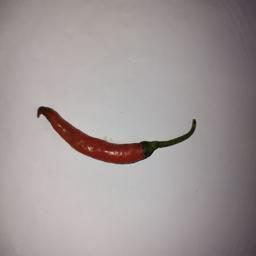Buah Cabai Sehat: (34, 104, 196, 165)
